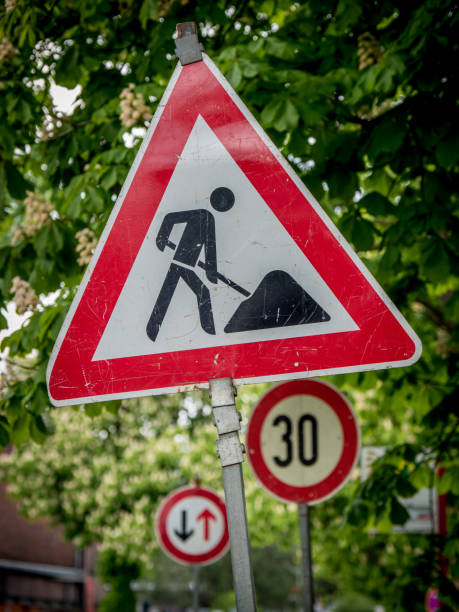yol_calismasi_levha: (41, 51, 430, 393)
